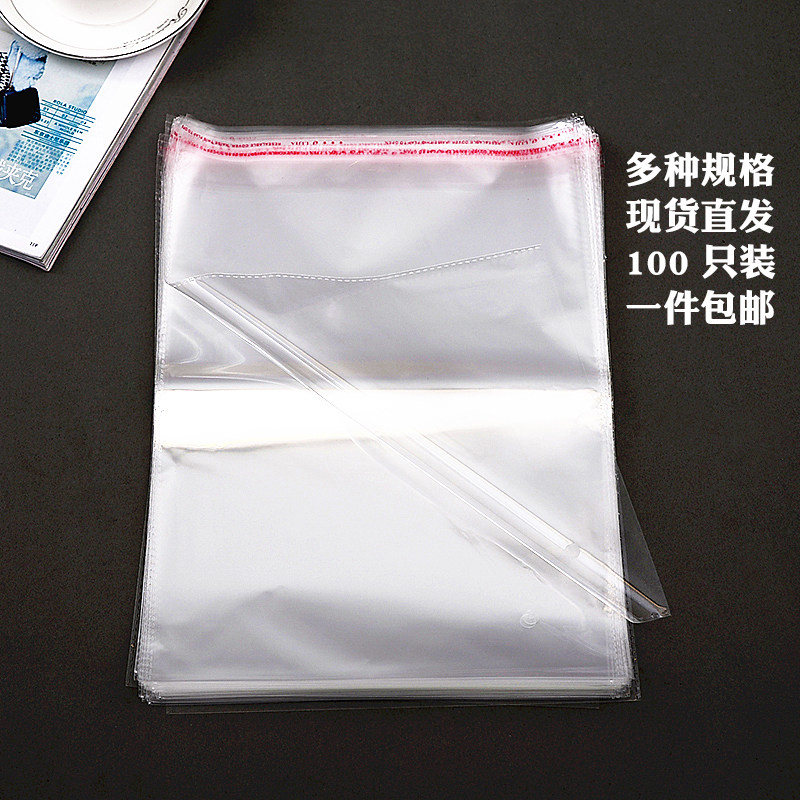Parcel: (135, 118, 667, 702)
